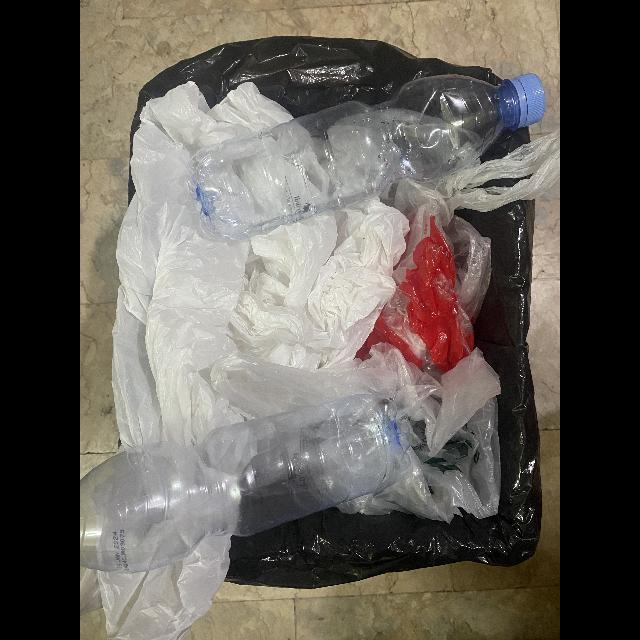plastic: (113, 81, 407, 447), (190, 74, 546, 241), (80, 394, 410, 574), (209, 343, 501, 524), (356, 204, 491, 384), (379, 128, 560, 227)
